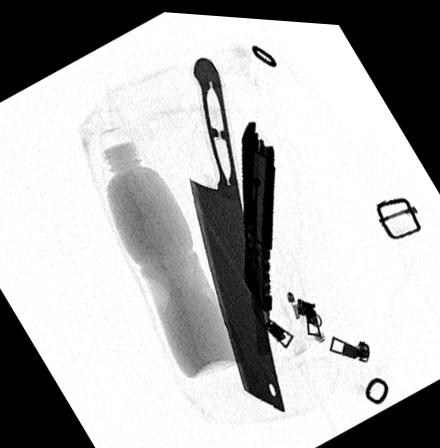Knife: (189, 52, 286, 408), (240, 116, 276, 352)
